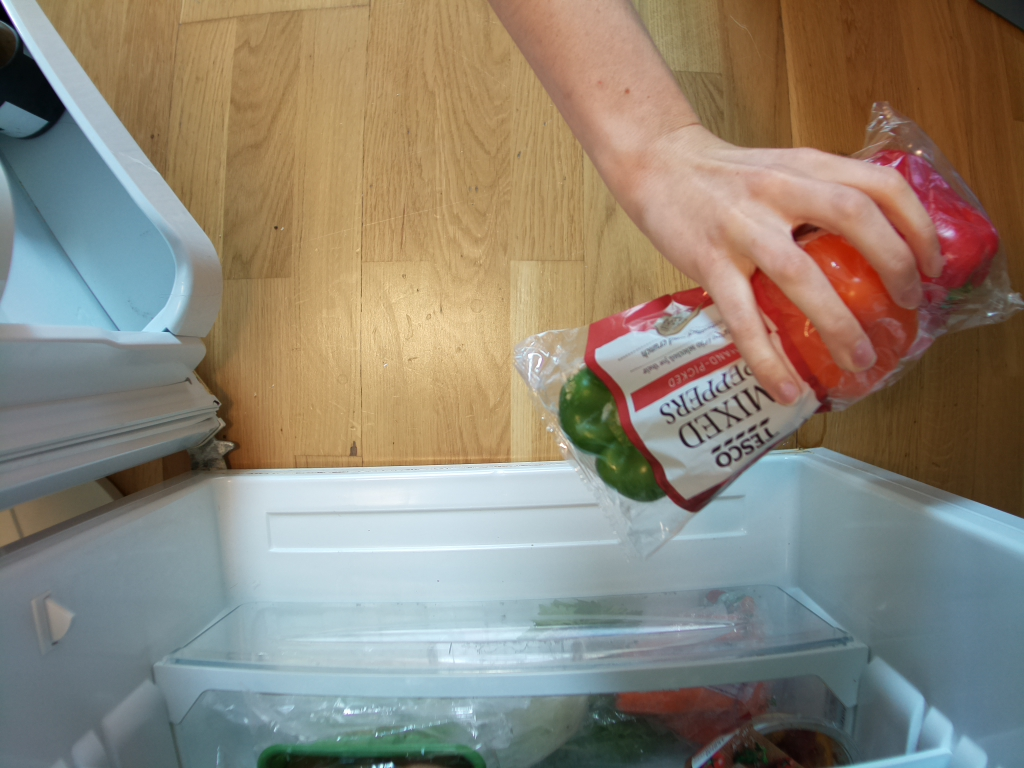pepper: (755, 217, 922, 402), (869, 145, 1001, 303), (554, 344, 681, 506)
